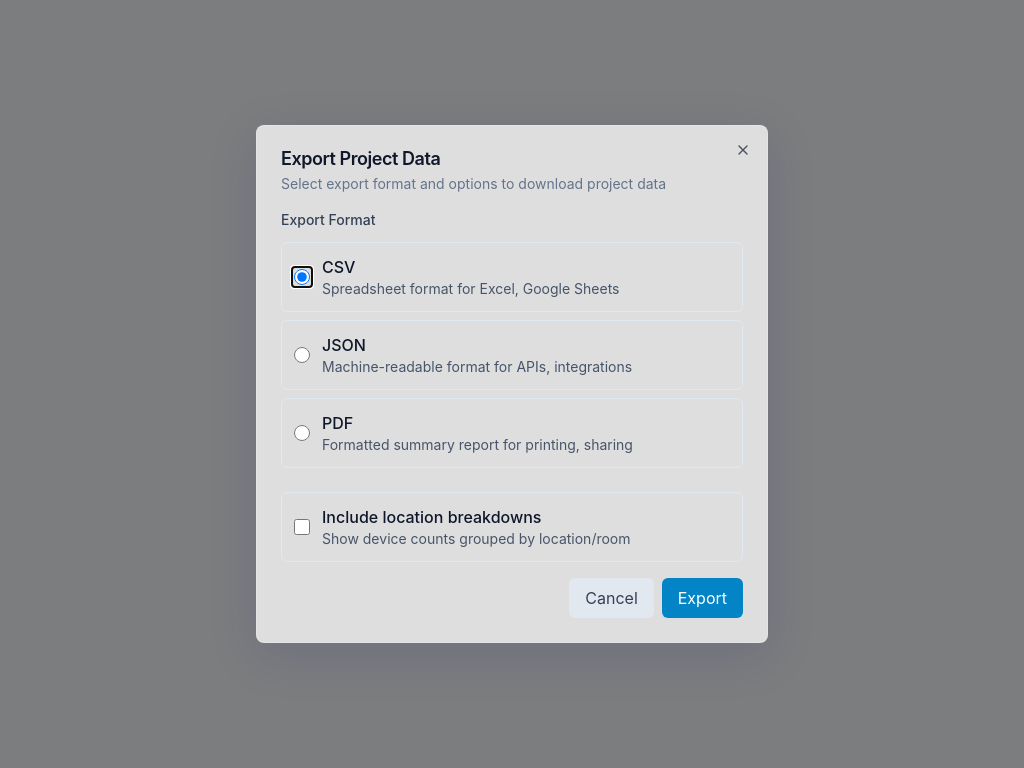
Test: ExportDialog › Export Errors › should display rate limit error with retry time
This screenshot has width=1024, height=768.
Click the button "Export".
click(702, 598)  # box [662,578,743,618]
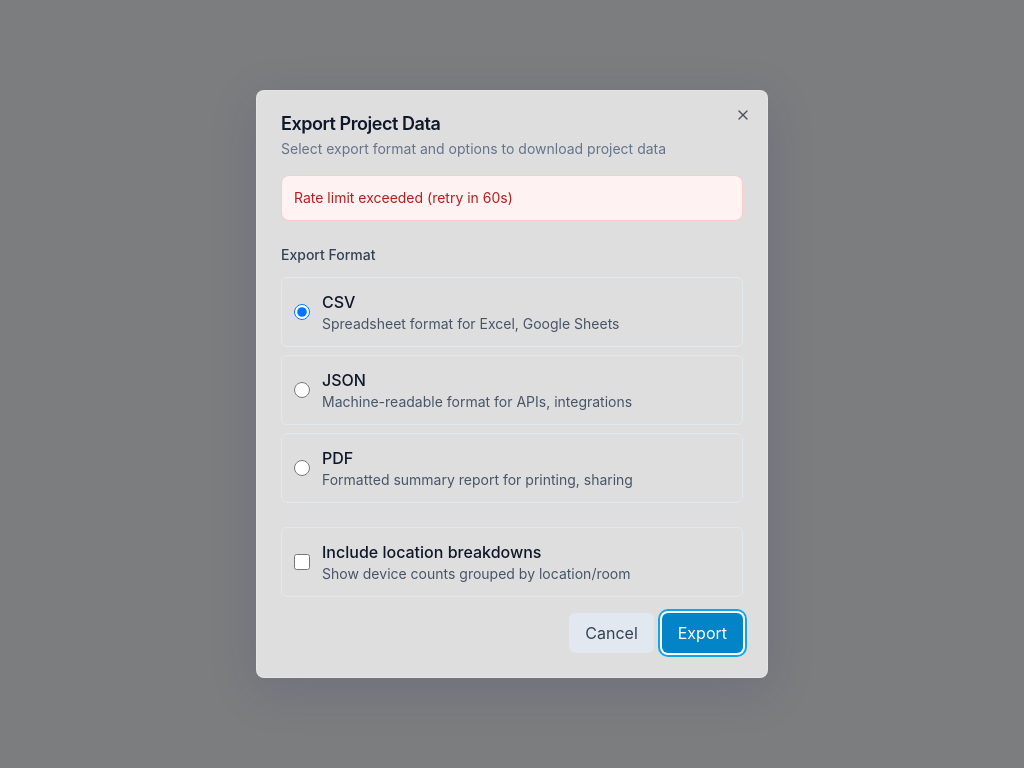
Expected: the text "Rate limit exceeded (retry in 60s)" is shown, [281,175,743,221]
